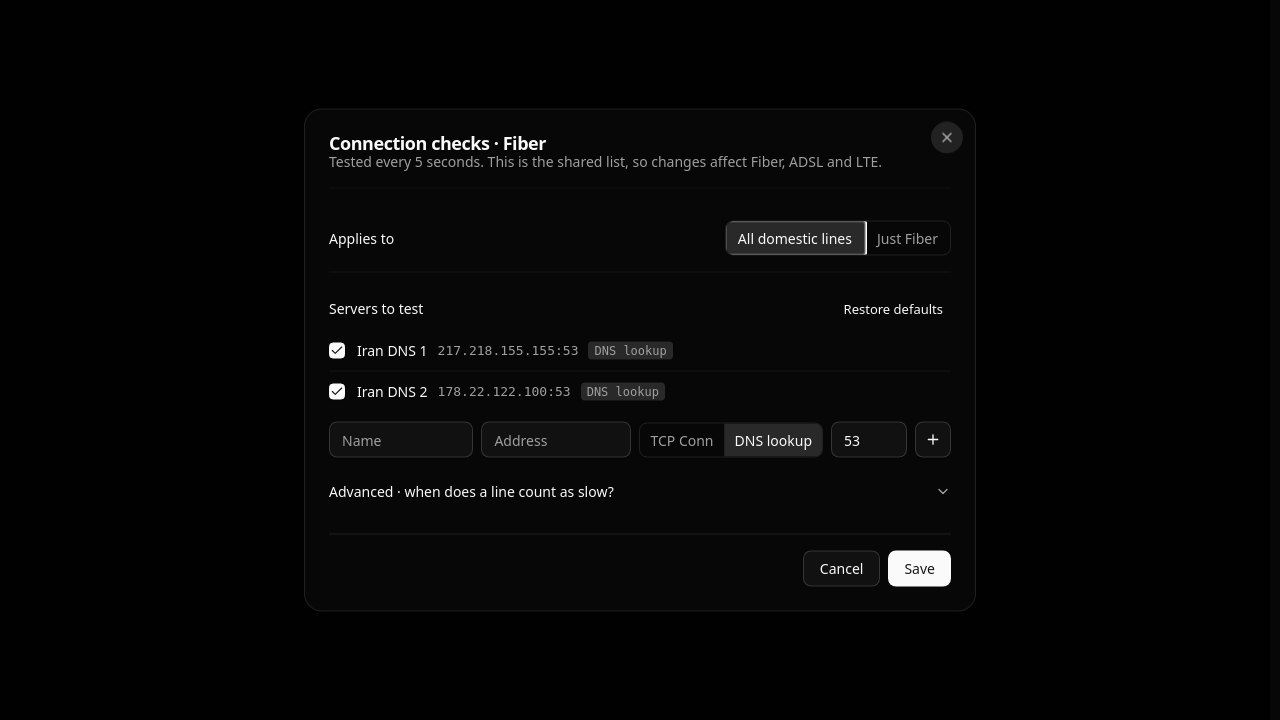
Test: rows › refuses an address the prober would silently discard
Type "dns.google" into the field named "Address of the server" at coordinates (556, 440), box [481,422,631,458]
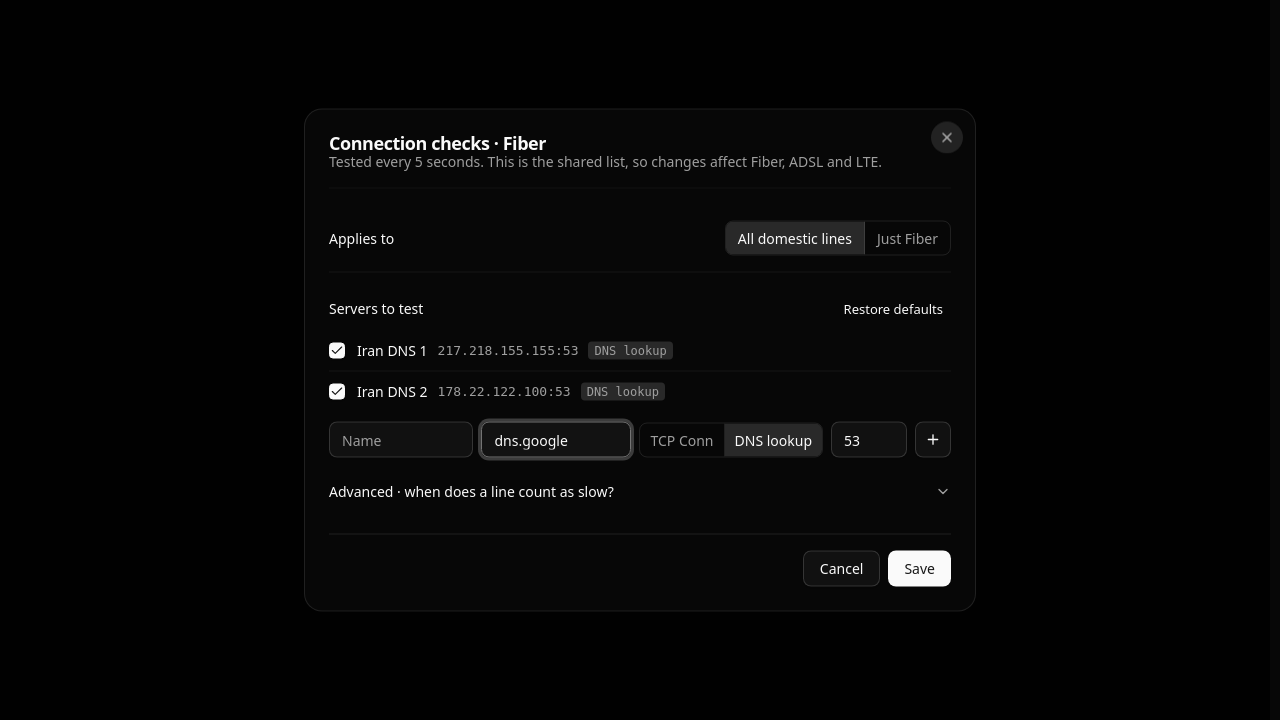
Click the button named "Add this server" at coordinates (933, 440), box [915,422,951,458]
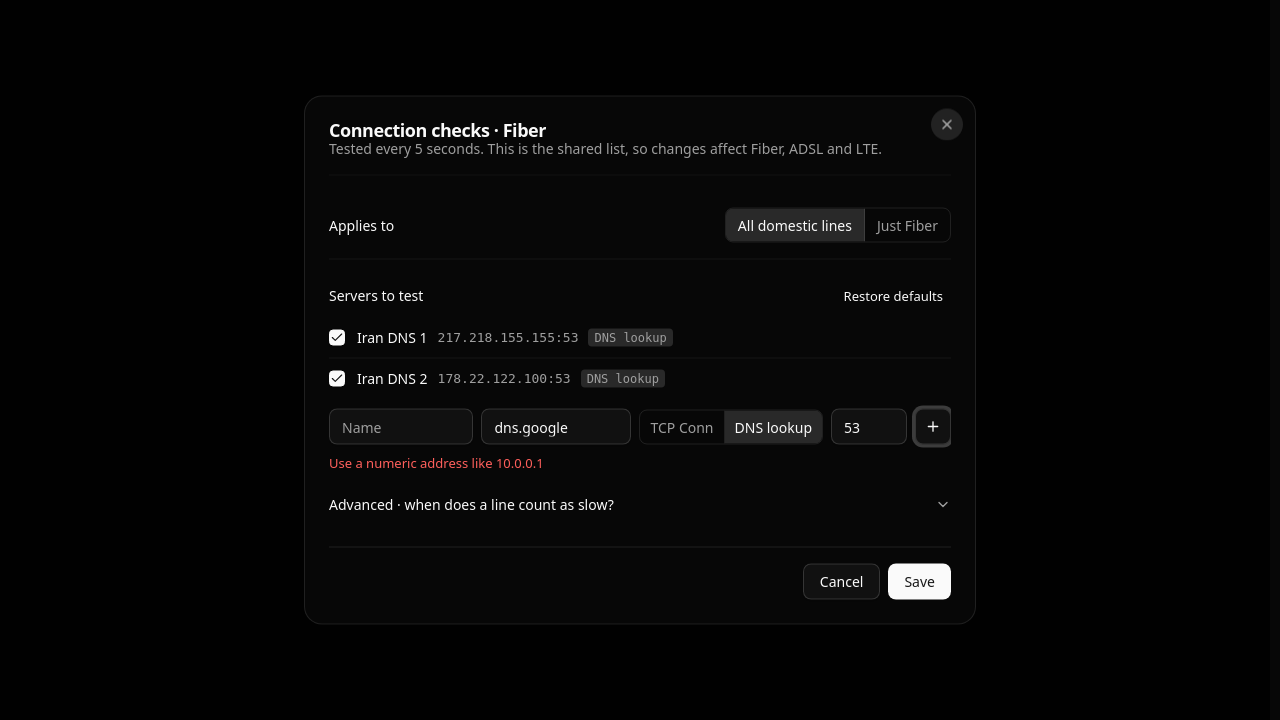
Expected: the text "Use a numeric address like 10.0.0.1" is shown, [329,454,544,472]
